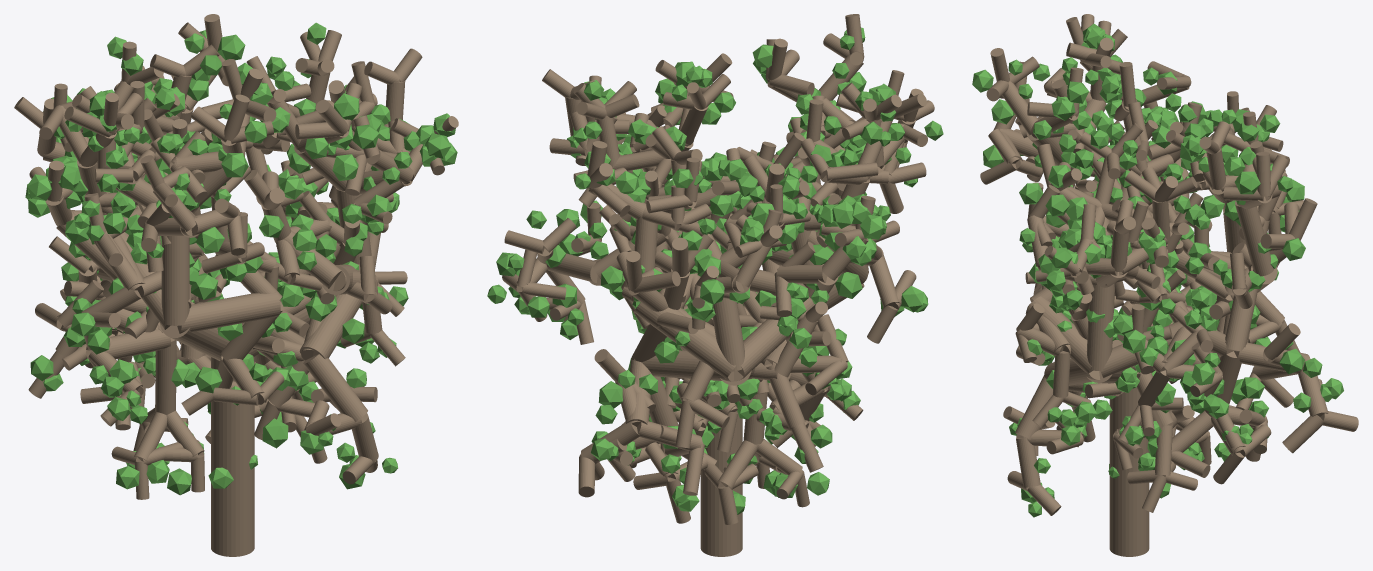
3 views of the same model, side by side, from view 1: azimuth 30°, elevation 25°; view 2: azimuth 150°, elevation 25°; view 3: azimuth 270°, elevation 25° (orthographic). The views are drawn at different scales.
Parts seen in each view (by area): view 1: OakBranch_D0, OakBranch_D2.010, OakBranch_D2.012, OakBranch_D3.009, OakBranch_D2.003, OakBranch_D3.027, OakBranch_D3.028, OakBranch_D1.002, OakBranch_D3.031, OakBranch_D3.012, OakBranch_D4.100, OakBranch_D4.079 (+34 smaller); view 2: OakBranch_D0, OakBranch_D2.006, OakBranch_D2.007, OakBranch_D2.008, OakBranch_D2.005, OakBranch_D4.069, OakBranch_D3.017, OakBranch_D3.004, OakBranch_D4.080, OakBranch_D4.100, OakBranch_D4.070, OakBranch_D3.014 (+37 smaller); view 3: OakBranch_D0, OakBranch_D2, OakBranch_D3.017, OakBranch_D2.004, OakBranch_D3.013, OakBranch_D3.009, OakBranch_D4.047, OakBranch_D4.030, OakBranch_D2.001, OakBranch_D3.015, OakBranch_D4.023, OakBranch_D3.014 (+31 smaller).
Part boxes in pixels (box(x1,y1,x2,y2)): OakBranch_D0: box(211, 354, 254, 556); OakBranch_D2.010: box(177, 291, 280, 333); OakBranch_D2.012: box(161, 236, 189, 325); OakBranch_D3.009: box(303, 354, 367, 422); OakBranch_D2.003: box(299, 294, 362, 359); OakBranch_D3.027: box(155, 338, 176, 415); OakBranch_D3.028: box(103, 329, 170, 359); OakBranch_D1.002: box(160, 323, 229, 360); OakBranch_D3.031: box(221, 302, 283, 360); OakBranch_D3.012: box(276, 230, 341, 288); OakBranch_D4.100: box(81, 287, 141, 313); OakBranch_D4.079: box(134, 412, 166, 461); OakBranch_D0: box(700, 399, 742, 556); OakBranch_D2.006: box(634, 302, 735, 378); OakBranch_D2.007: box(712, 298, 744, 371); OakBranch_D2.008: box(737, 297, 815, 378); OakBranch_D2.005: box(634, 350, 733, 381); OakBranch_D4.069: box(766, 364, 805, 428); OakBranch_D3.017: box(631, 216, 657, 302); OakBranch_D3.004: box(546, 253, 597, 282); OakBranch_D4.080: box(717, 440, 757, 489); OakBranch_D4.100: box(869, 255, 900, 307); OakBranch_D4.070: box(777, 265, 827, 283); OakBranch_D3.014: box(625, 359, 651, 425); OakBranch_D0: box(1109, 387, 1149, 556); OakBranch_D2: box(1086, 283, 1114, 371); OakBranch_D3.017: box(1235, 201, 1273, 276); OakBranch_D2.004: box(1025, 296, 1092, 374); OakBranch_D3.013: box(1225, 289, 1258, 351); OakBranch_D3.009: box(1015, 375, 1052, 439); OakBranch_D4.047: box(1171, 410, 1213, 452); OakBranch_D4.030: box(1016, 437, 1040, 487); OakBranch_D2.001: box(1100, 322, 1182, 377); OakBranch_D3.015: box(1205, 351, 1241, 416); OakBranch_D4.023: box(1155, 425, 1172, 475); OakBranch_D3.014: box(1234, 342, 1310, 374).
Size of the model in its own units: 10.2 by 13.06 by 9.73.
